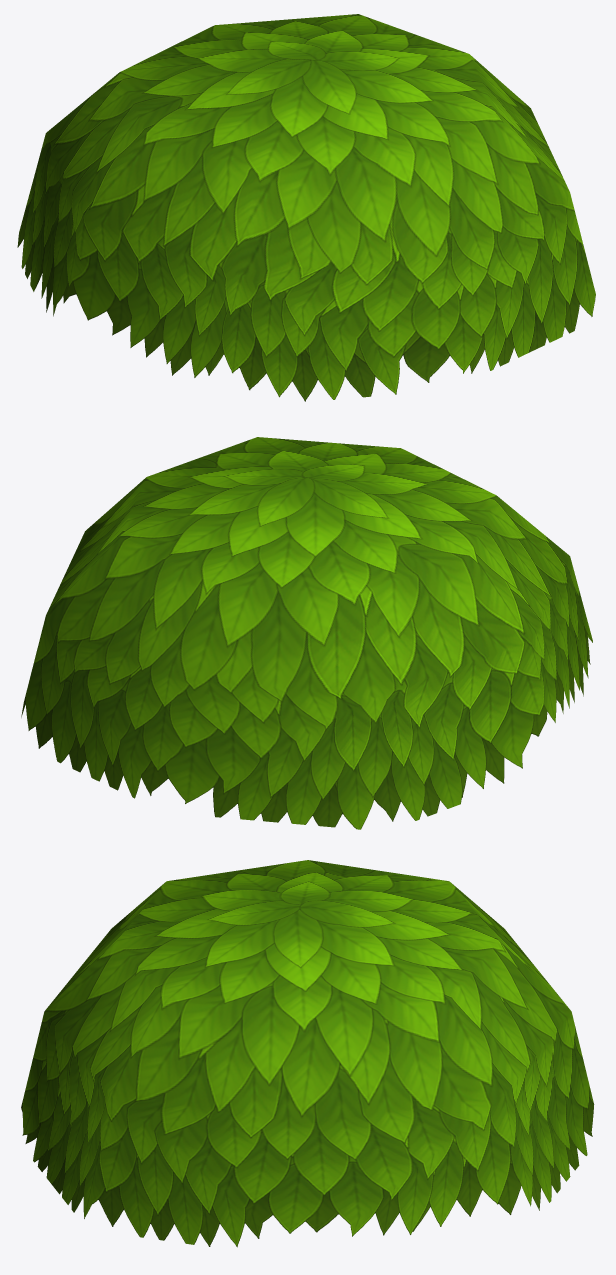
The model's file is bush.FBX.
3 renders of one model, top to bottom at view 1: azimuth 30°, elevation 25°; view 2: azimuth 150°, elevation 25°; view 3: azimuth 270°, elevation 25°, orthographic. The views are drawn at different scales.
Visible parts, largest first — view 1: Box001; view 2: Box001; view 3: Box001.
Boxes of the visible parts, x1,y1,x2,y2 form: Box001: (17,14,595,401); Box001: (21,437,592,829); Box001: (21,860,594,1247).
Bounding box in the file's own units: 30 × 13.15 × 30.
1 material, 1 textured.
